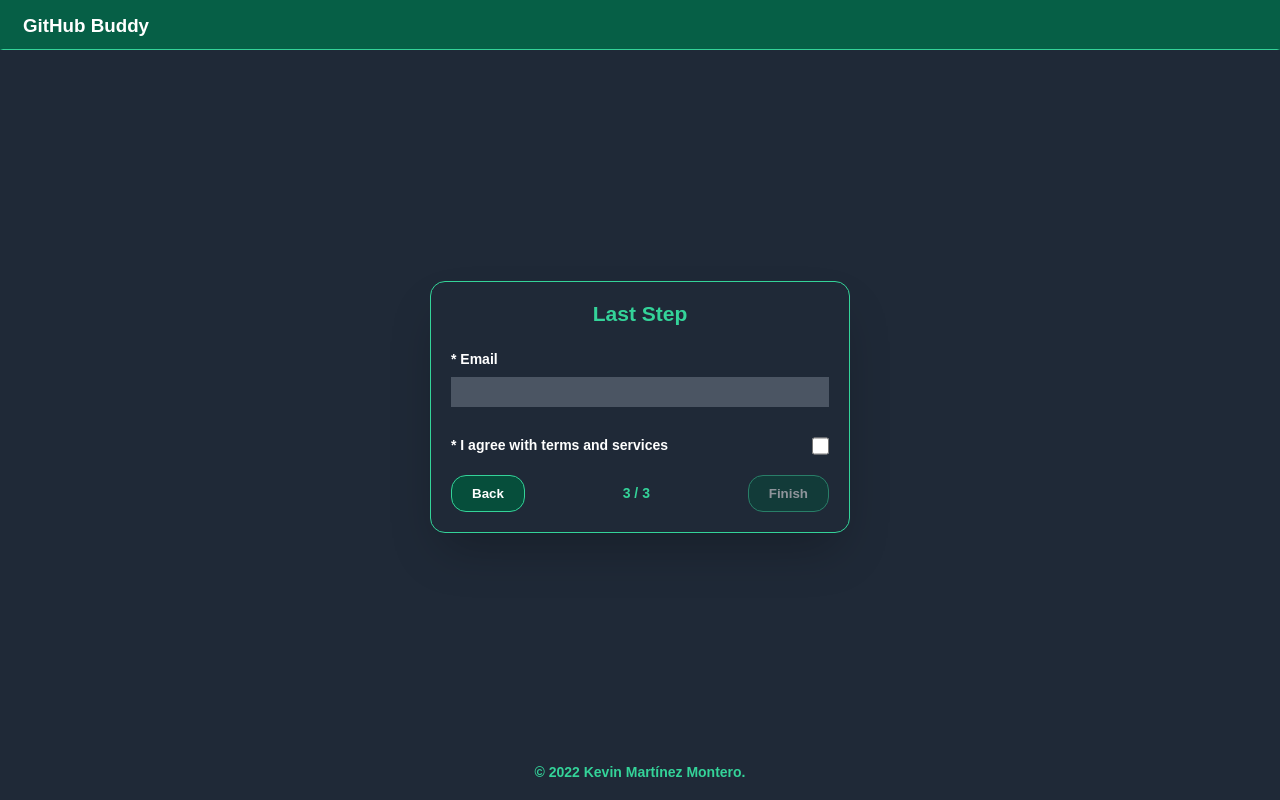
Test: Form Two › should show error for invalid email
Type "wrong-email@test" into the field labelled "* Email" at [640, 392], box left=451, top=377, right=829, bottom=407
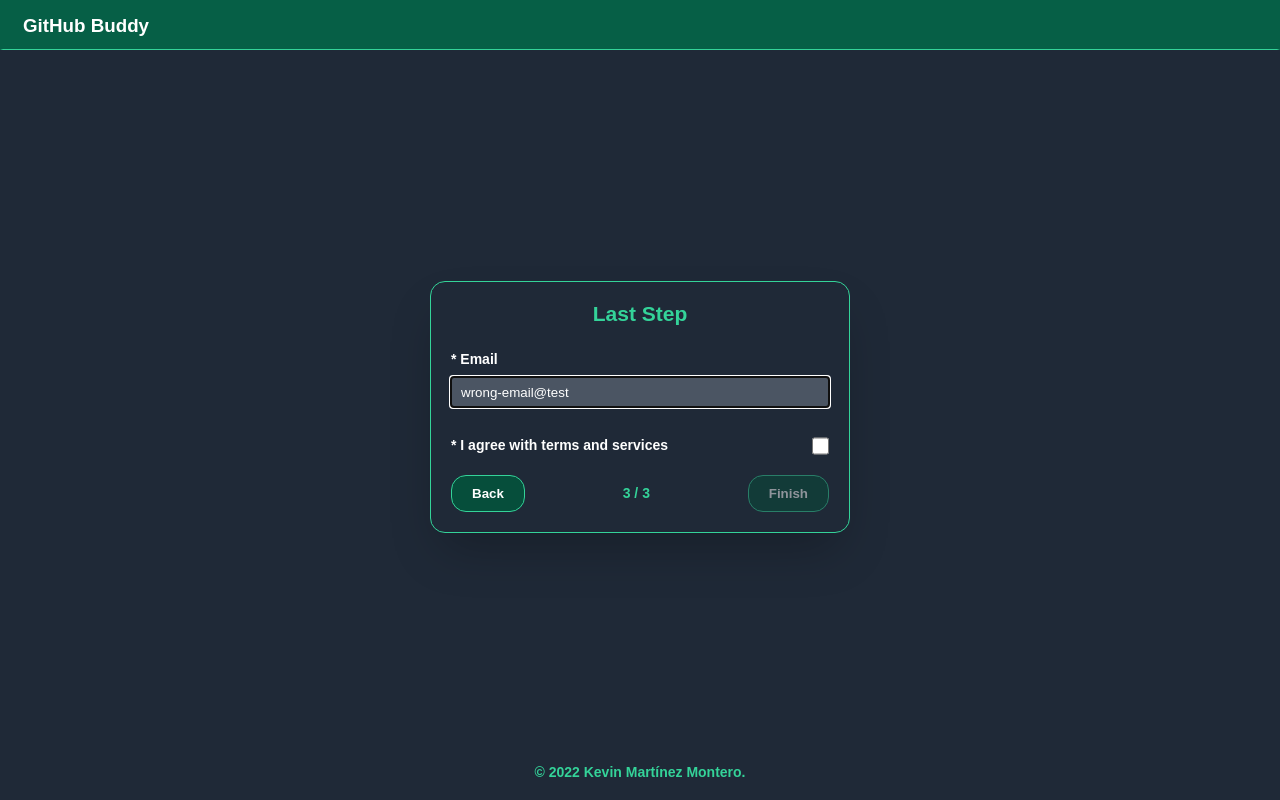
Focus the checkbox labelled "* I agree with terms and services" at [821, 446], box left=812, top=437, right=830, bottom=455
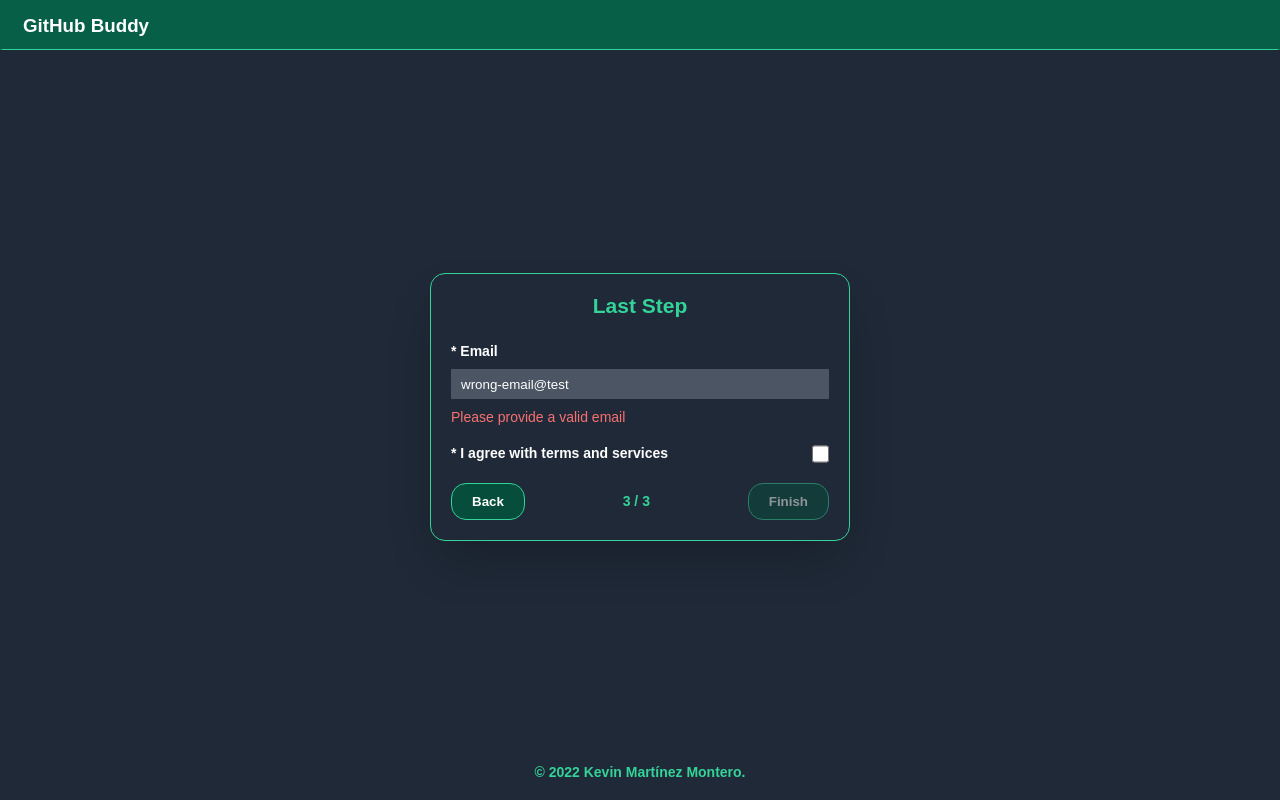
expect the message "Please provide a valid email" is shown: met, box left=451, top=409, right=625, bottom=425
